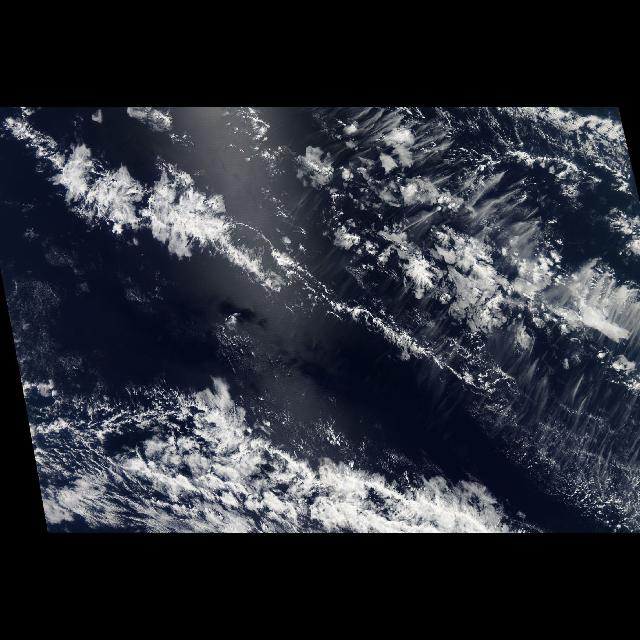Fish: (4, 112, 632, 388)
Flower: (298, 111, 524, 349)
